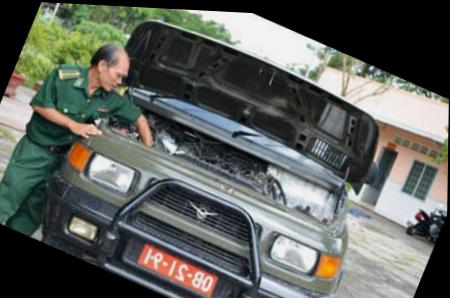License_Plate: (138, 240, 223, 295)
